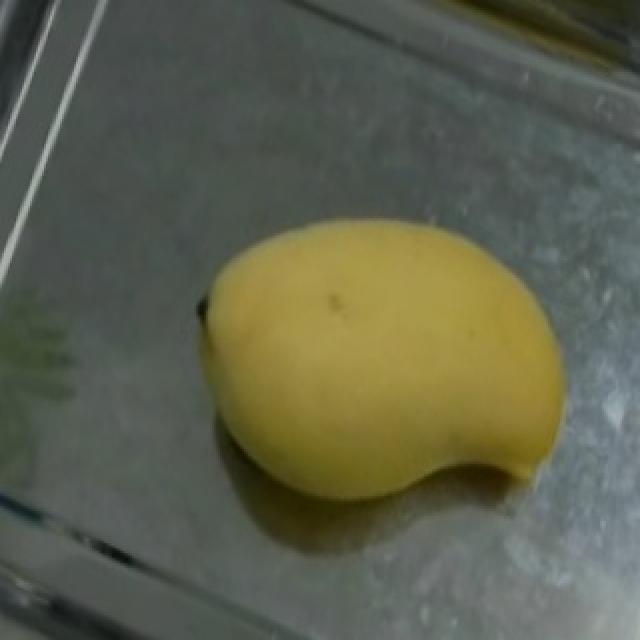fruit: (176, 102, 640, 560)
